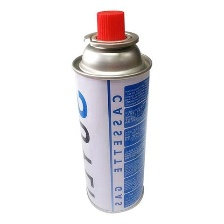aerosol_cans: (70, 5, 156, 215)
